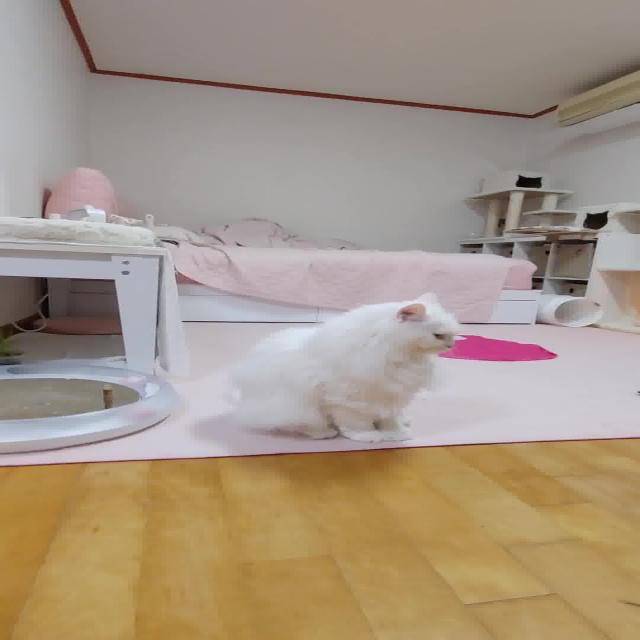cat: (198, 283, 468, 449)
